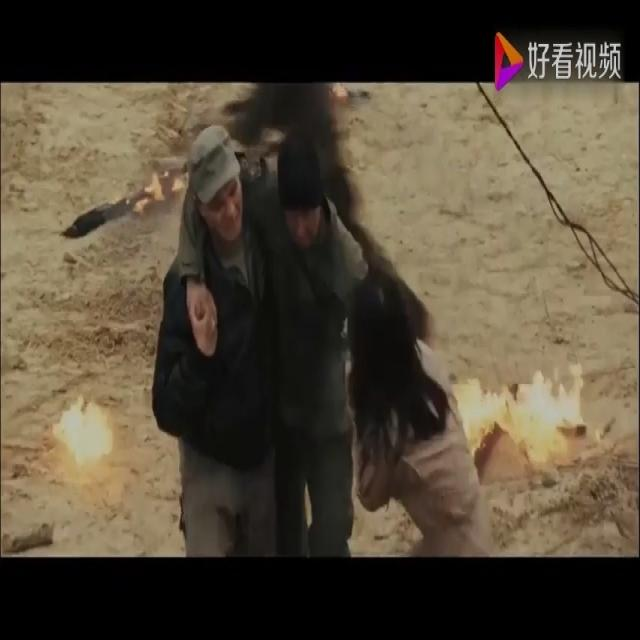fight: (133, 76, 539, 556)
